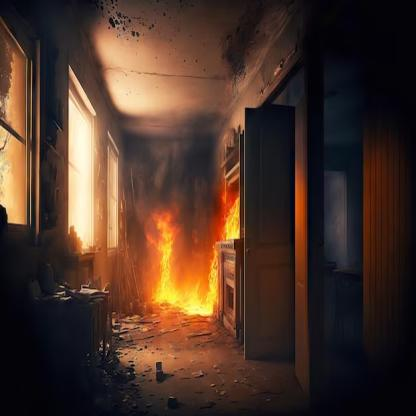fire: (145, 188, 241, 328)
smoke: (110, 136, 233, 295)
